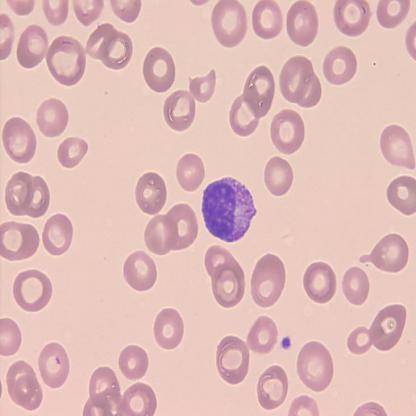Metamyelocyte: (200, 175, 258, 245)
